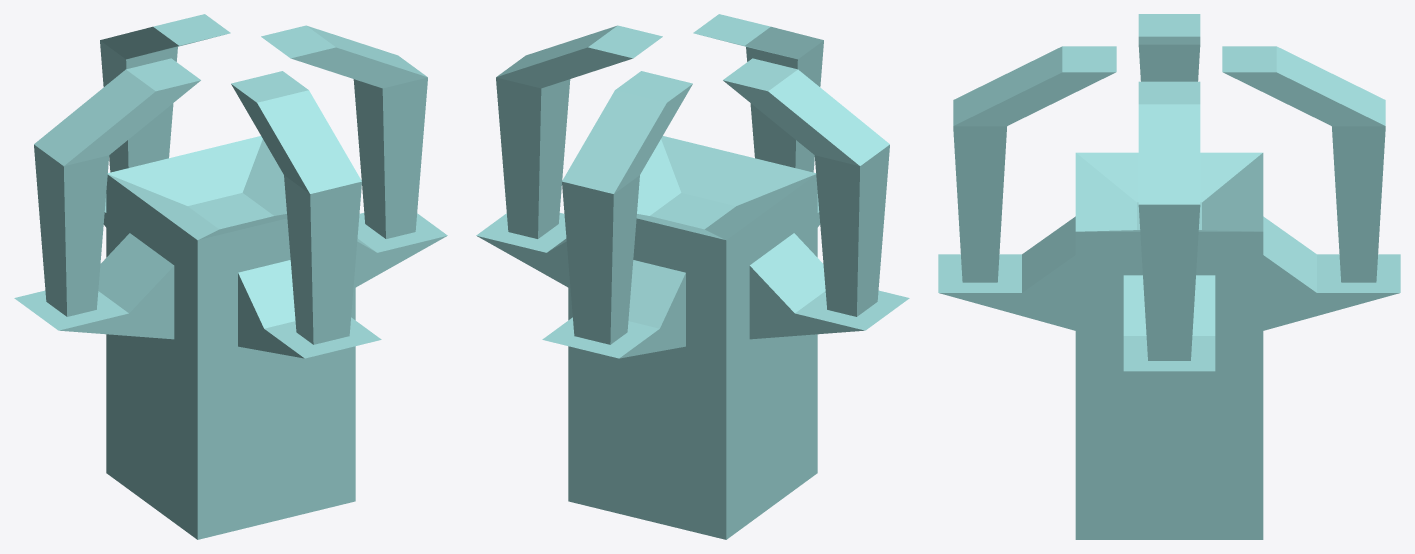
The model's file is cublix.obj.
The picture shows the model from 3 angles, left to right: view 1: azimuth 30°, elevation 25°; view 2: azimuth 150°, elevation 25°; view 3: azimuth 270°, elevation 25°; orthographic projection. The views are drawn at different scales.
Visible parts, largest first — view 1: Box001; view 2: Box001; view 3: Box001.
Part boxes in pixels (x1,y1,x2,y2): Box001: (14, 14, 447, 539); Box001: (476, 14, 909, 539); Box001: (938, 14, 1400, 539).
Size of the model in its own units: 28.91 by 30.42 by 28.91.
